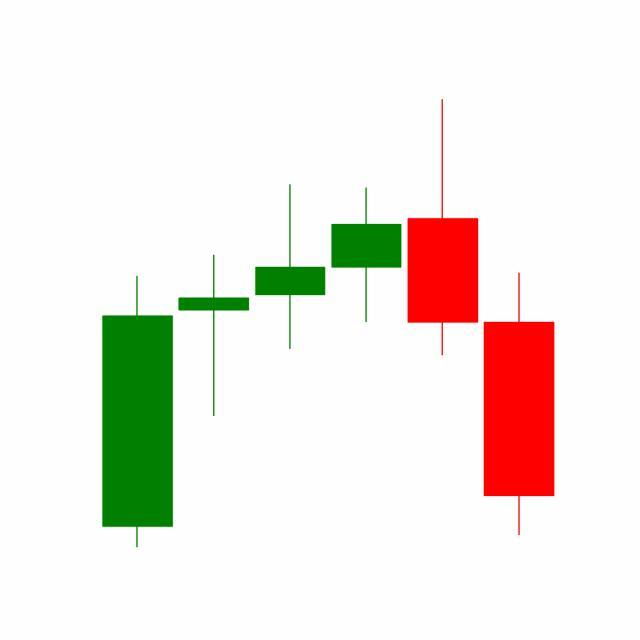Three Line Strike: (175, 100, 482, 422)
